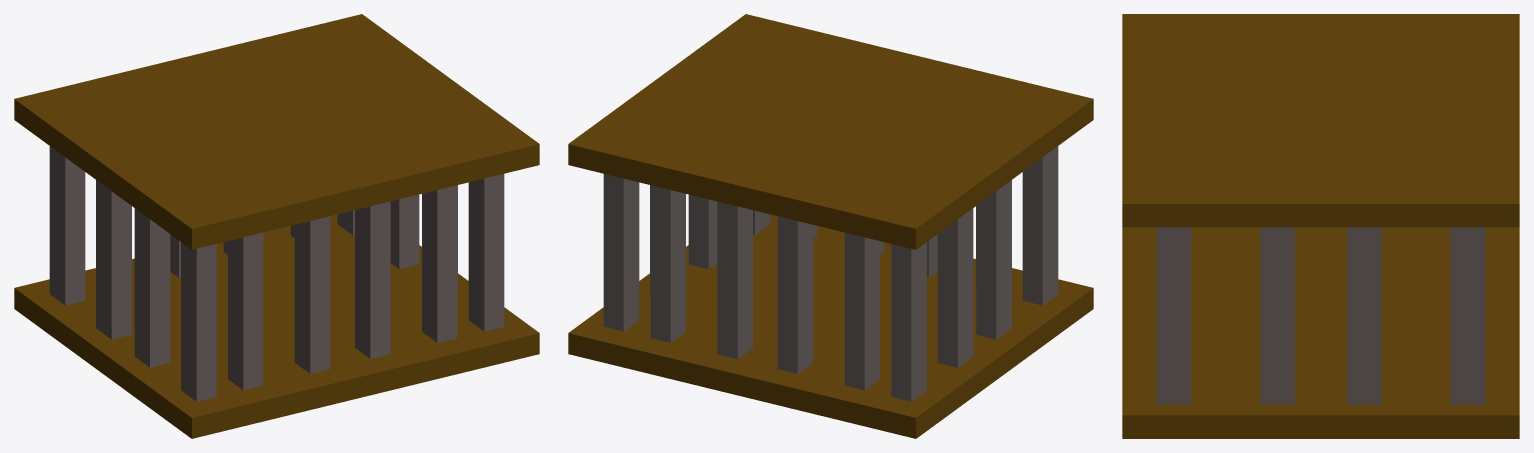
Rendered from inv_pigeon_cage_2.obj.
The picture shows the model from 3 angles, left to right: view 1: azimuth 30°, elevation 25°; view 2: azimuth 150°, elevation 25°; view 3: azimuth 270°, elevation 25°; orthographic projection. The views are drawn at different scales.
Bounding box in the file's own units: 0.4062 × 0.2344 × 0.3594.
